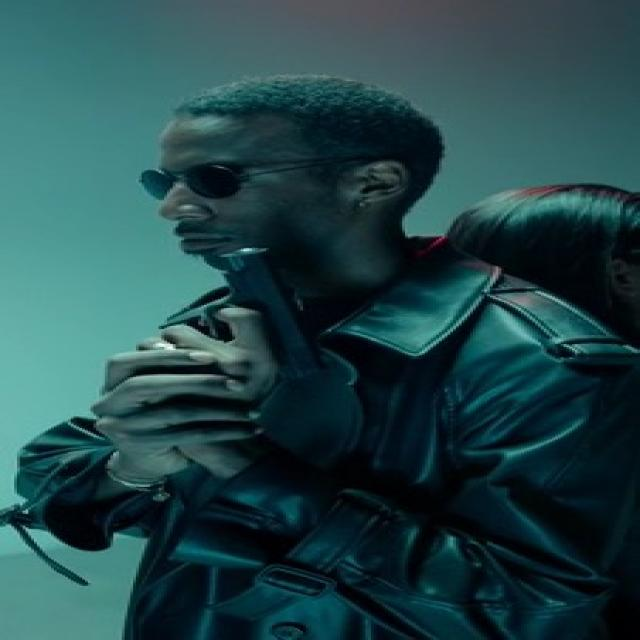Gun_Holder: (122, 244, 359, 412)
Jacket_Wearer: (14, 246, 626, 640)
Person: (8, 69, 640, 640)
